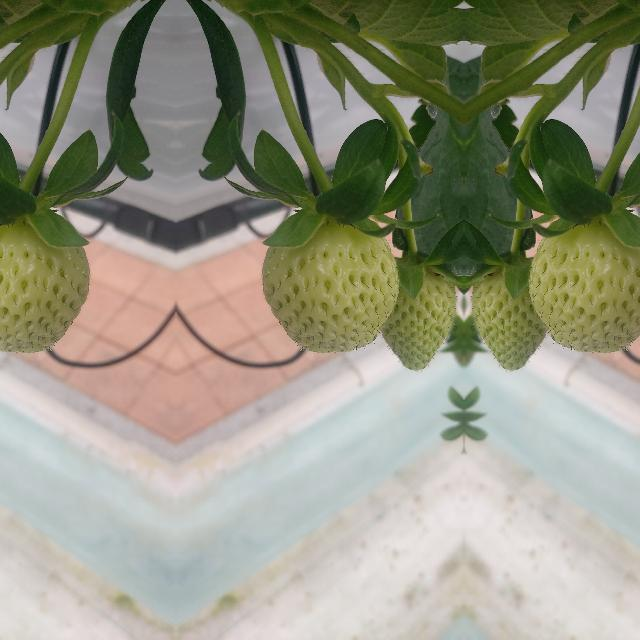Health_25: (261, 219, 397, 353), (529, 219, 640, 353), (0, 219, 89, 353), (377, 255, 457, 371), (469, 255, 549, 371)
